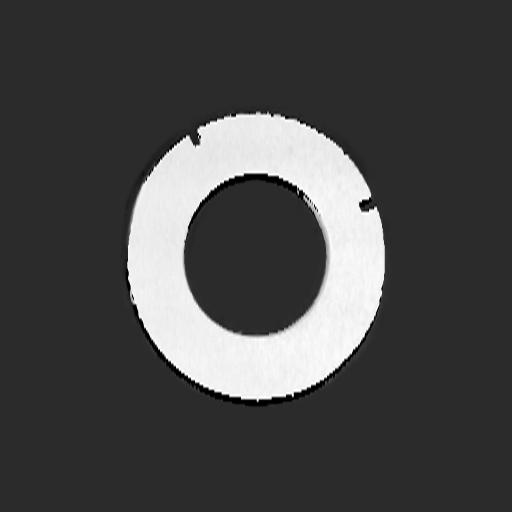defect: (358, 197, 378, 214), (187, 129, 204, 148)
